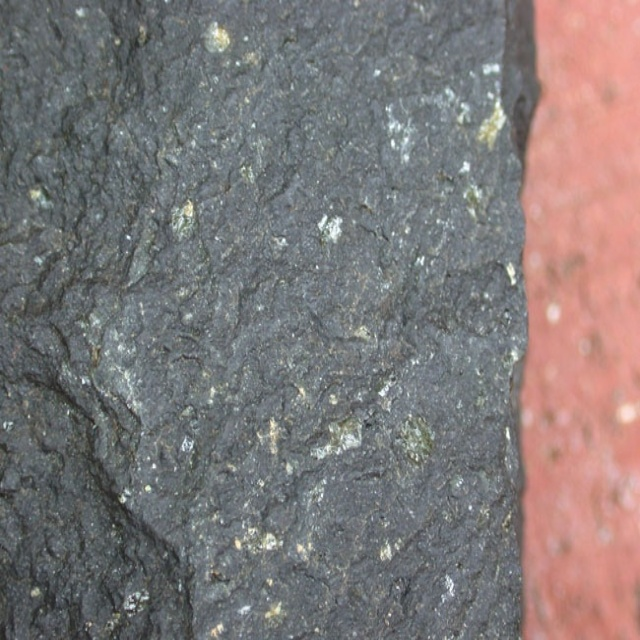obstacle: (0, 3, 537, 636)
